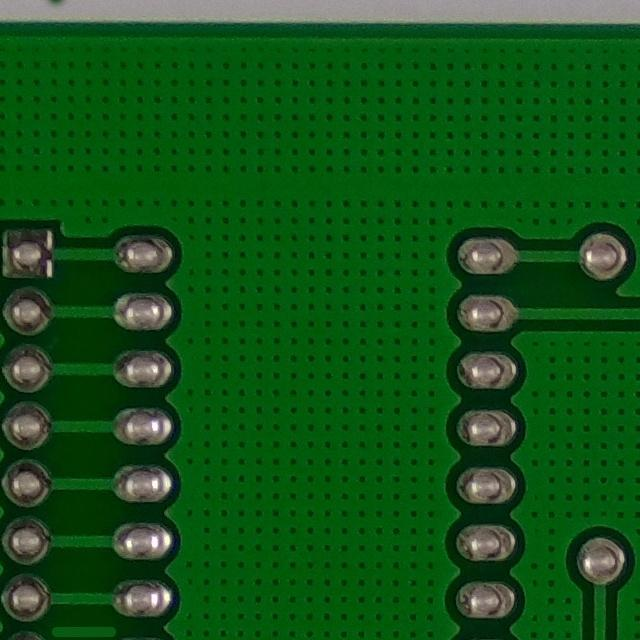spurious_copper: (46, 612, 126, 640)
